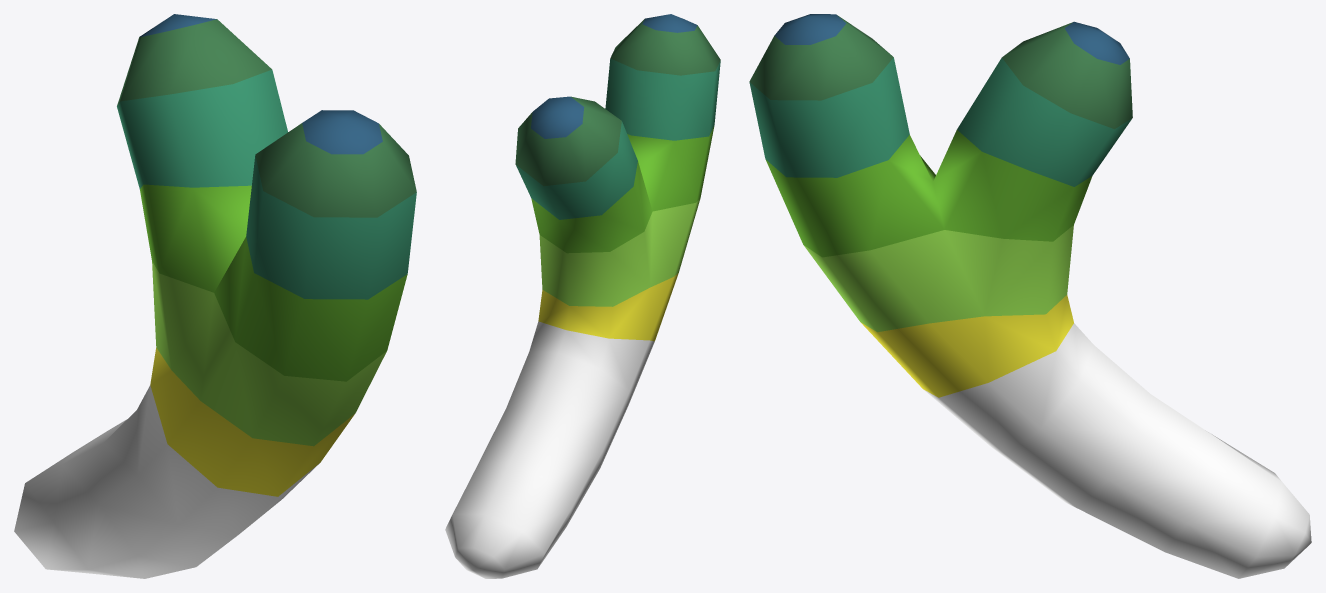
Rendered from model_leek.fbx.
The picture shows the model from 3 angles, left to right: view 1: azimuth 30°, elevation 25°; view 2: azimuth 150°, elevation 25°; view 3: azimuth 270°, elevation 25°; orthographic projection. The views are drawn at different scales.
Visible parts, largest first — view 1: pasted__pCylinder1; view 2: pasted__pCylinder1; view 3: pasted__pCylinder1.
Boxes of the visible parts, x1,y1,x2,y2 form: pasted__pCylinder1: [14, 14, 416, 578]; pasted__pCylinder1: [445, 14, 720, 578]; pasted__pCylinder1: [749, 14, 1311, 578].
Size of the model in its own units: 0.4289 by 1.76 by 1.62.
1 material, 1 textured.
